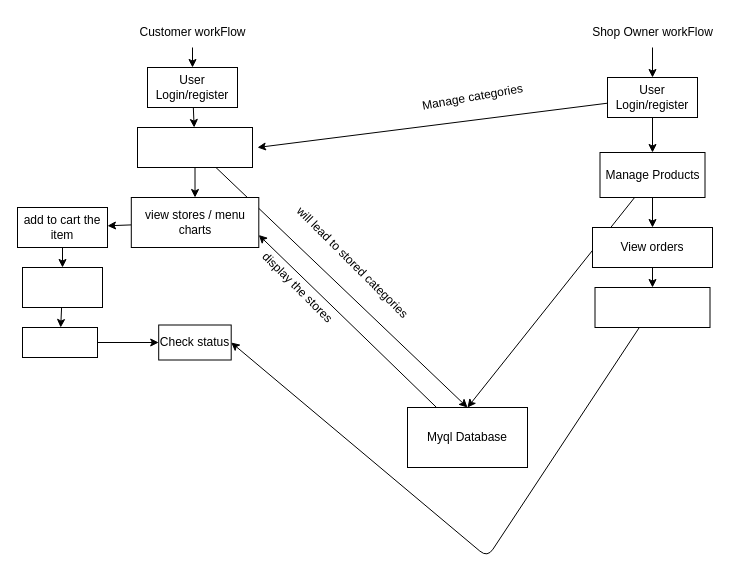
Image size: 740x583. Some labels were removed from this diagram. The centre of each missing label's shape, as x and y in pixels:
"Accept/reject order" goes at point 652,307.
"Brows categories" goes at point 194,147.
"Make Payment" goes at point 60,342.
"Place order" goes at point 62,287.
